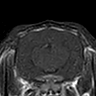Brain: (17, 30, 81, 77)
